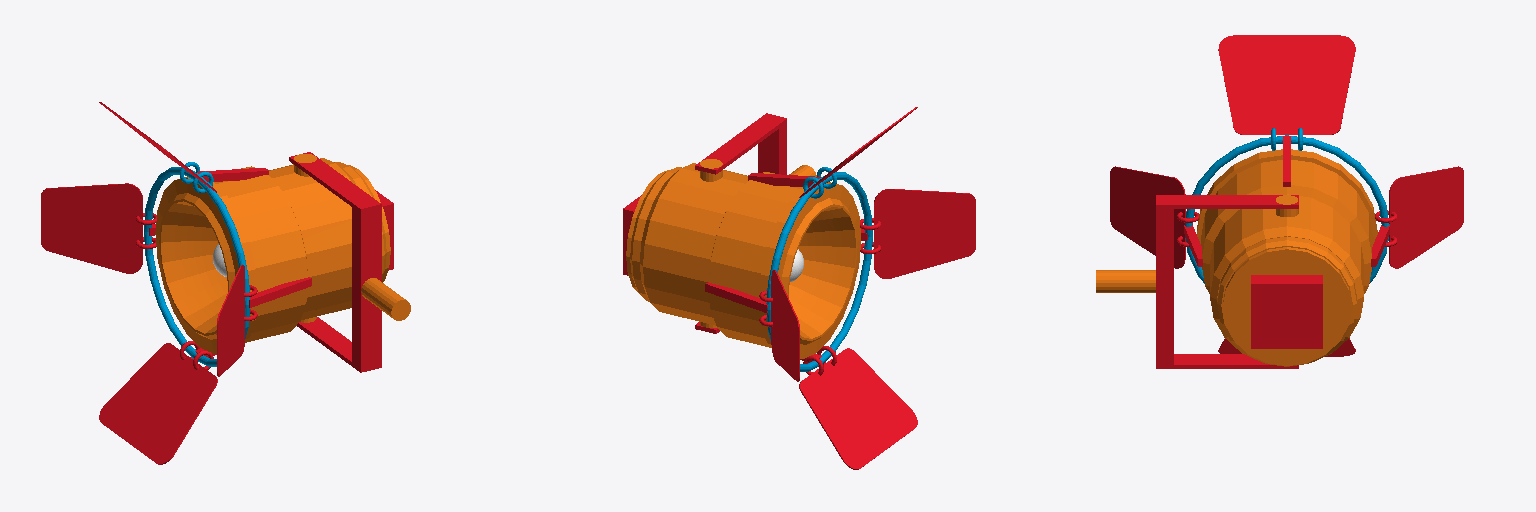
Rendered from focus.obj.
3 renders of one model, left to right at view 1: azimuth 30°, elevation 25°; view 2: azimuth 150°, elevation 25°; view 3: azimuth 270°, elevation 25°, orthographic.
Visible parts, largest first — view 1: obj_0; view 2: obj_0; view 3: obj_0.
Part boxes in pixels (left/top/right/bottom): obj_0: left=41, top=102, right=410, bottom=464; obj_0: left=623, top=107, right=975, bottom=469; obj_0: left=1096, top=35, right=1463, bottom=368.
Bounding box in the file's own units: 40.32 × 50 × 52.01.